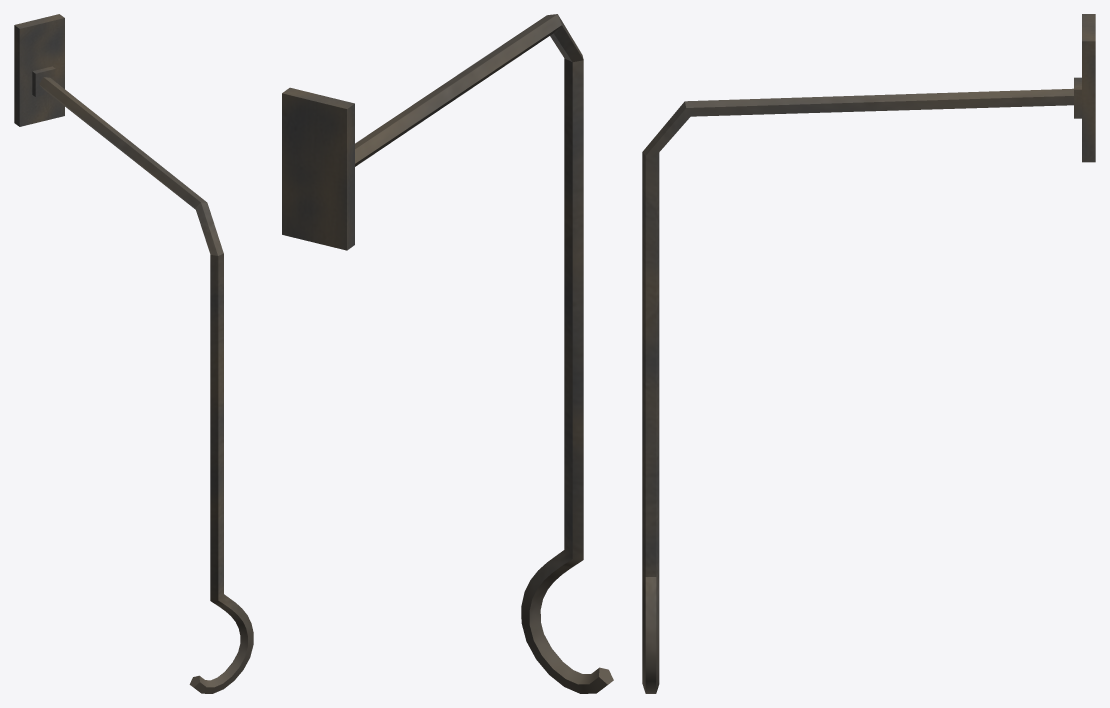
File: Basket_Carrier.FBX
3 renders of one model, left to right at view 1: azimuth 30°, elevation 25°; view 2: azimuth 150°, elevation 25°; view 3: azimuth 270°, elevation 25°, orthographic. The views are drawn at different scales.
Parts seen in each view (by area): view 1: Object063; view 2: Object063; view 3: Object063.
Part boxes in pixels (x1,y1,x2,y2): Object063: [14, 14, 253, 693]; Object063: [282, 14, 613, 693]; Object063: [642, 14, 1095, 693].
Bounding box in the file's own units: 10.96 × 94.31 × 58.14.
